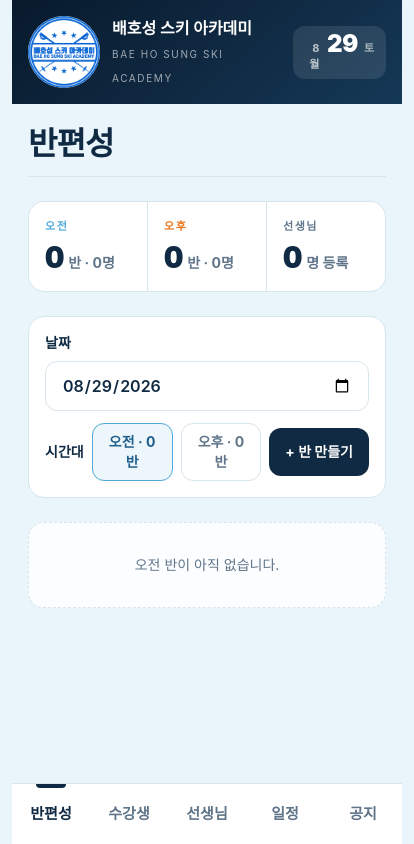
Test case: admin notice management › opens the notice publishing form from the admin navigation
Click the button "공지": [363, 814] box [324,784,402,843]
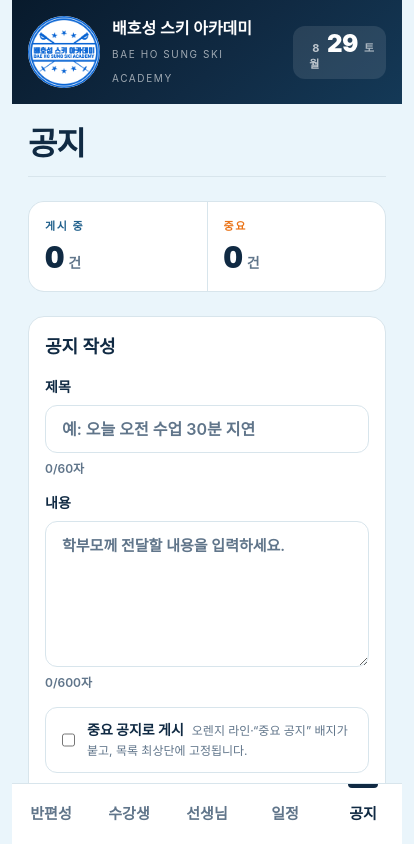
Expected: the field labelled "제목 0/60자" is shown, [45,405,369,453]
Now the form shows "공지 작성", box [45,336,116,357]
Now the text box labelled "내용 0/600자" is shown, box [45,521,369,667]
